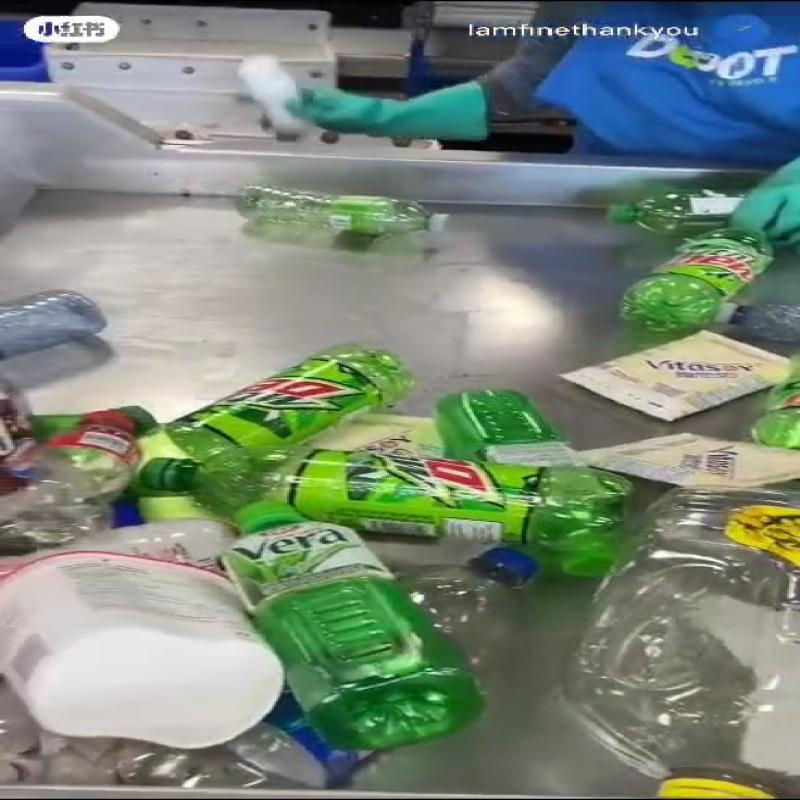botella: (144, 434, 637, 568), (225, 496, 479, 752), (171, 336, 412, 465), (433, 384, 623, 529), (0, 407, 164, 547), (634, 222, 792, 338), (244, 182, 460, 250), (599, 165, 769, 232), (0, 280, 119, 365), (763, 363, 800, 455)
